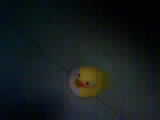duck: (63, 62, 99, 96)
